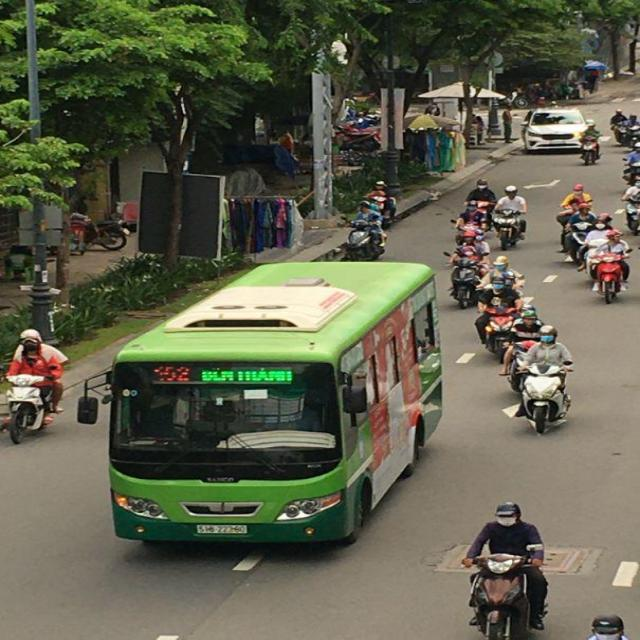bus: (109, 256, 444, 552)
car: (519, 108, 594, 155)
motorcycle: (466, 552, 539, 640), (516, 358, 574, 434), (1, 373, 54, 445), (473, 294, 522, 352), (73, 211, 127, 252), (590, 250, 630, 305), (338, 225, 389, 263), (490, 204, 527, 250), (451, 262, 482, 308), (579, 132, 601, 164), (624, 194, 639, 236)
